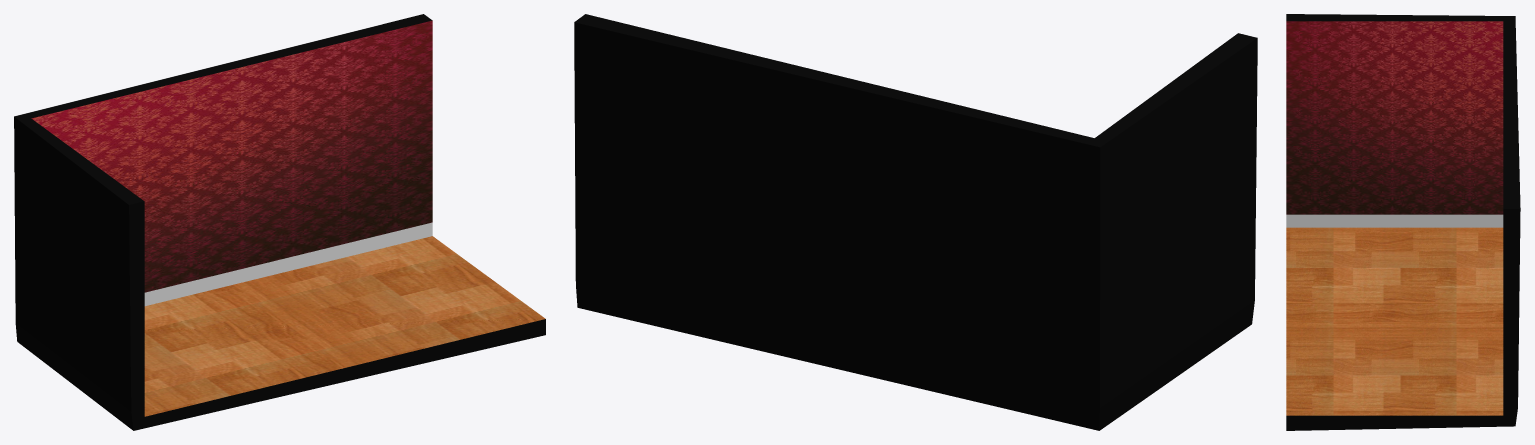
File: BedroomBaseC.glb
3 renders of one model, left to right at view 1: azimuth 30°, elevation 25°; view 2: azimuth 150°, elevation 25°; view 3: azimuth 270°, elevation 25°, orthographic. The views are drawn at different scales.
Visible parts, largest first — view 1: Cube; view 2: Cube; view 3: Cube.
Part boxes in pixels (box(x1,y1,x2,y2)): Cube: box(14, 14, 545, 430); Cube: box(574, 14, 1257, 430); Cube: box(1286, 14, 1520, 430).
Bounding box in the file's own units: 4.05 × 2.15 × 2.05.
Materials: 4 (2 with a texture image).
